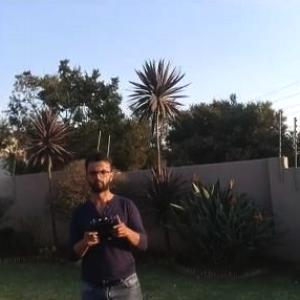follow: (62, 142, 154, 299)
